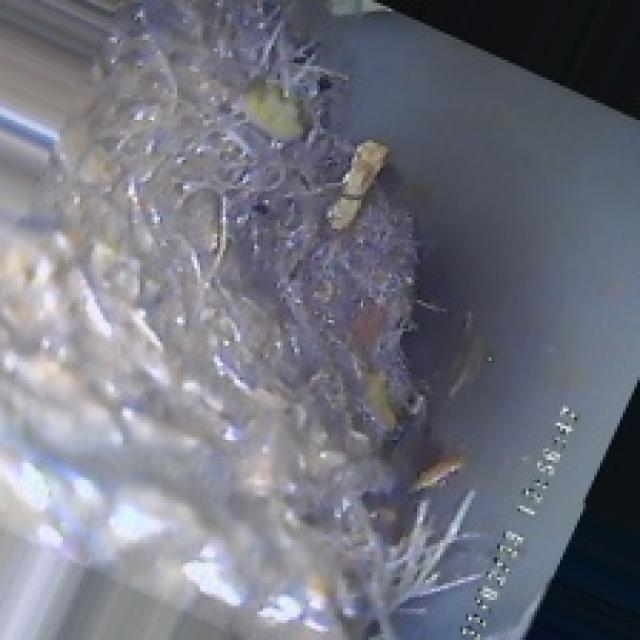sluge accumulation: (83, 20, 457, 626)
